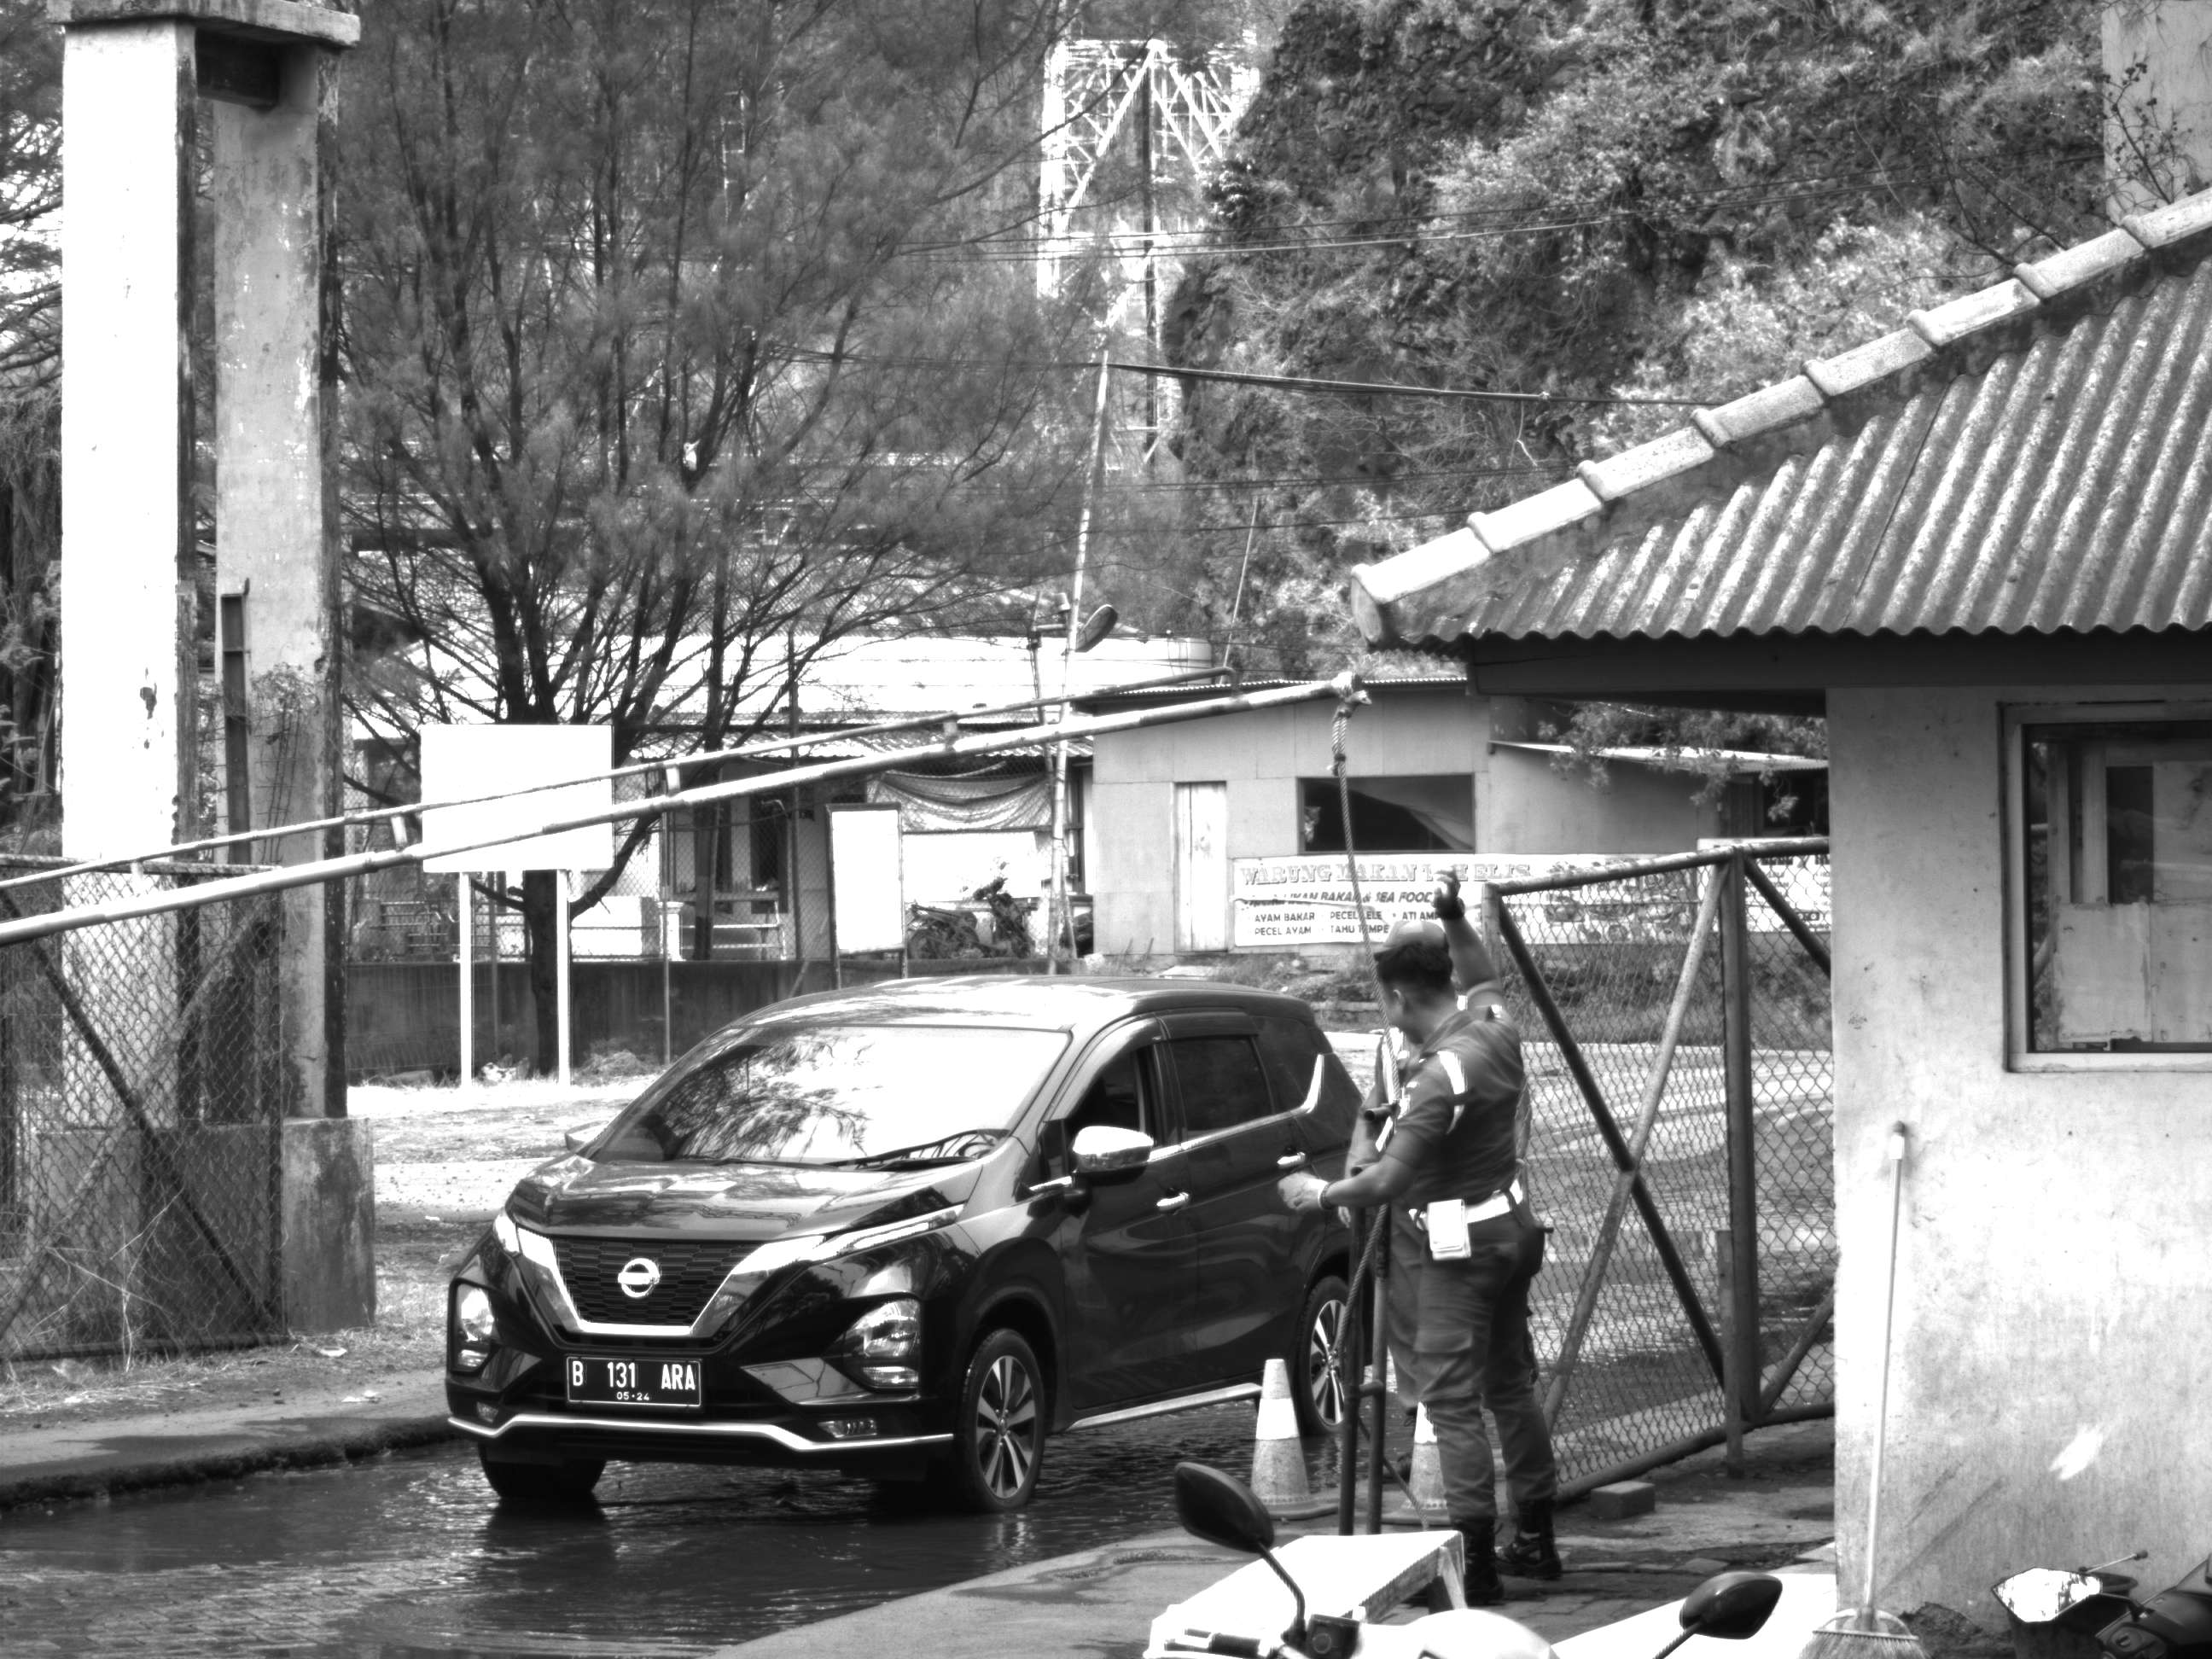day_small_front: (443, 998, 1119, 1520)
plate: (557, 1346, 710, 1417)
